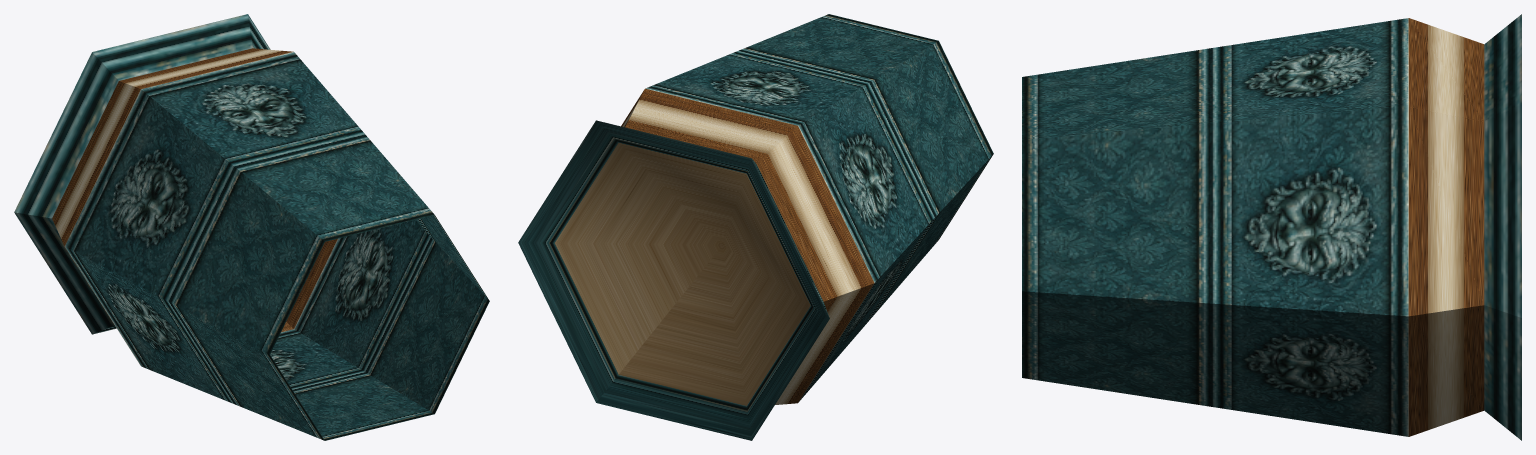
Rendered from mm9_deco_jar04side.glb.
3 renders of one model, left to right at view 1: azimuth 30°, elevation 25°; view 2: azimuth 150°, elevation 25°; view 3: azimuth 270°, elevation 25°, orthographic. The views are drawn at different scales.
Parts seen in each view (by area): view 1: Jar04side; view 2: Jar04side; view 3: Jar04side.
Part boxes in pixels (bbox=[...]): Jar04side: bbox=[14, 14, 489, 440]; Jar04side: bbox=[518, 14, 993, 440]; Jar04side: bbox=[1022, 14, 1521, 440].
Bounding box in the file's own units: 0.4202 × 0.3639 × 0.49.
1 material, 1 textured.
